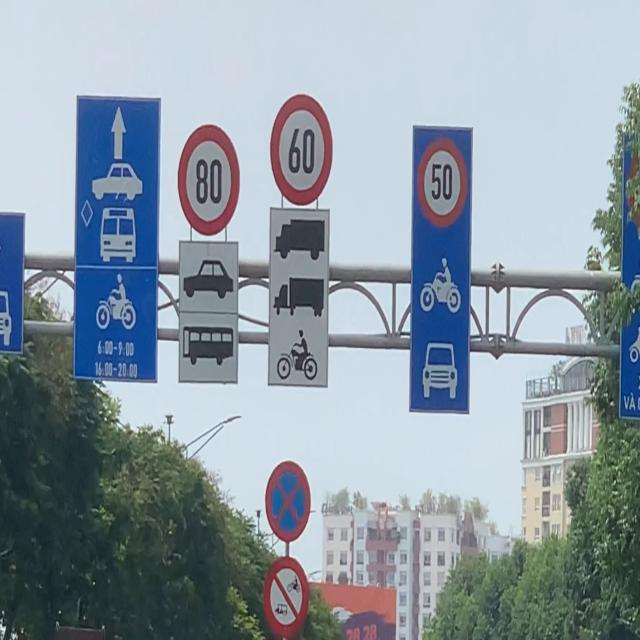Cam con lai: (263, 556, 310, 639)
Cam dung va do: (264, 458, 313, 544)
Toc do toi da: (268, 88, 338, 205), (177, 118, 246, 236), (414, 129, 468, 231)
